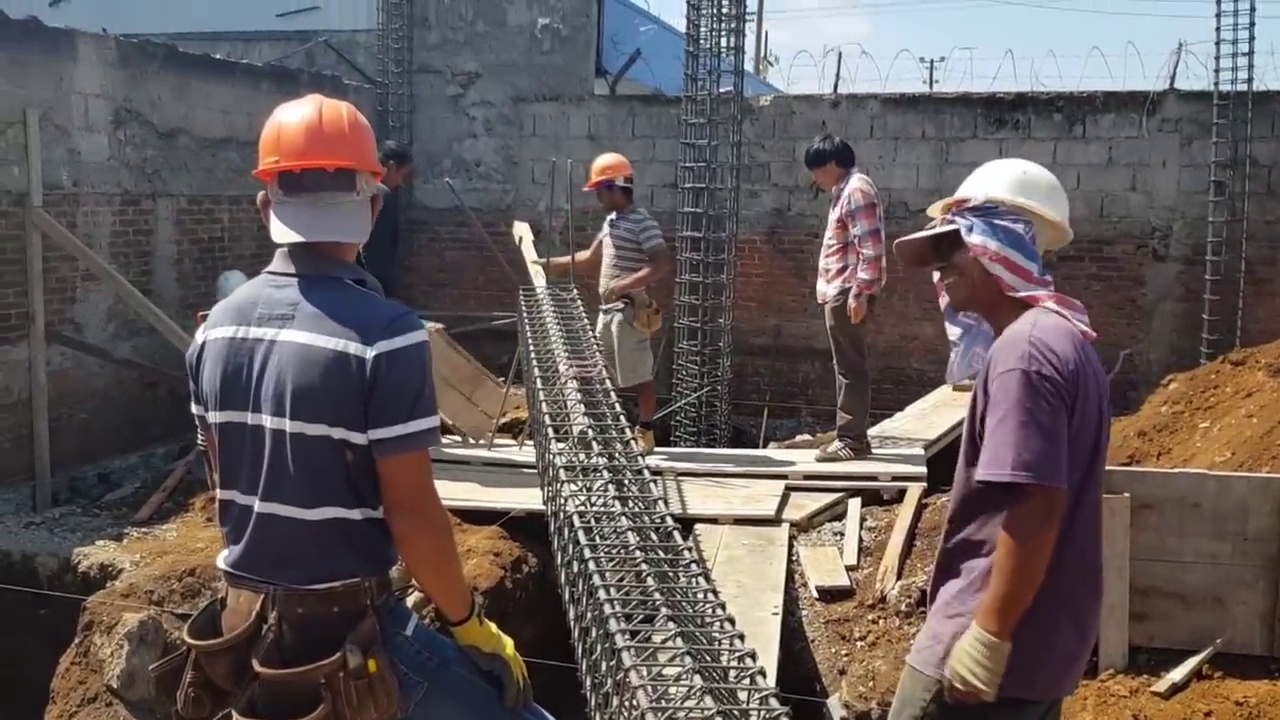helmet: (935, 155, 1080, 249), (245, 93, 383, 189), (582, 155, 636, 194)
helmet-off: (803, 136, 858, 195), (378, 139, 413, 191)
helmet-on: (894, 155, 1086, 345), (244, 86, 388, 288), (579, 141, 646, 225)
person: (179, 82, 527, 720), (888, 159, 1119, 720), (555, 145, 670, 475), (806, 132, 890, 481)
